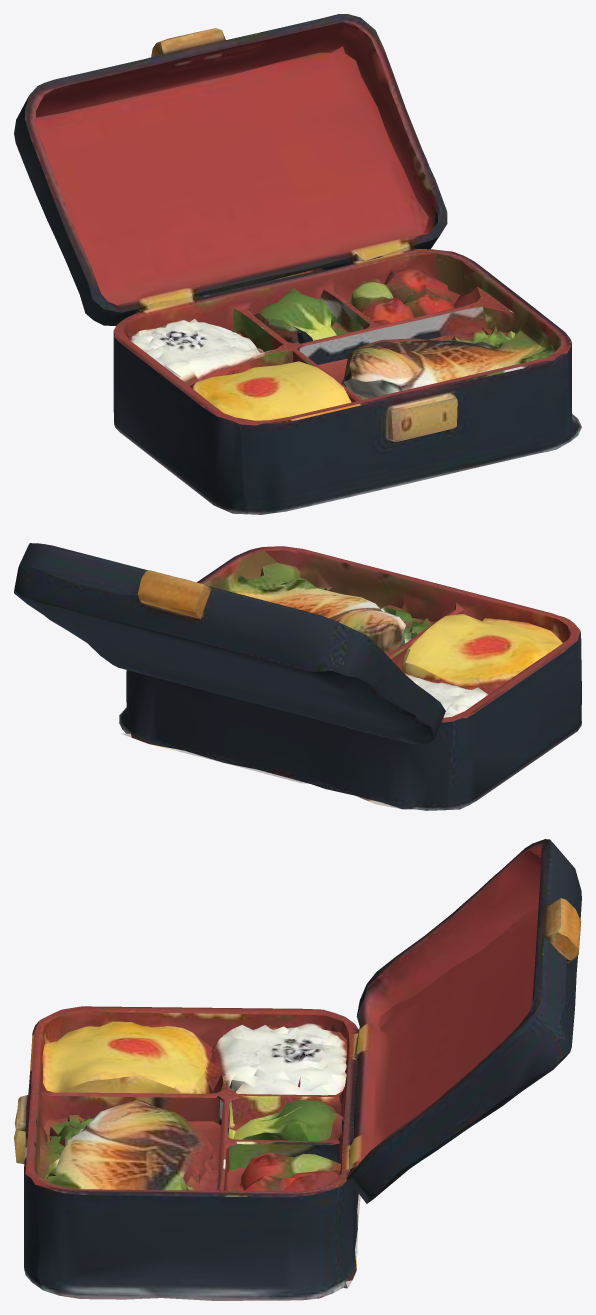
The model's file is cooked_meal.glb.
3 renders of one model, top to bottom at view 1: azimuth 30°, elevation 25°; view 2: azimuth 150°, elevation 25°; view 3: azimuth 270°, elevation 25°, orthographic. The views are drawn at different scales.
Visible parts, largest first — view 1: item_cooked_meal; view 2: item_cooked_meal; view 3: item_cooked_meal.
Part boxes in pixels (<box>): item_cooked_meal: <box>14,14,581,514</box>; item_cooked_meal: <box>14,543,581,810</box>; item_cooked_meal: <box>14,839,581,1300</box>.
Bounding box in the file's own units: 0.8218 × 0.575 × 1.
1 material, 1 textured.
